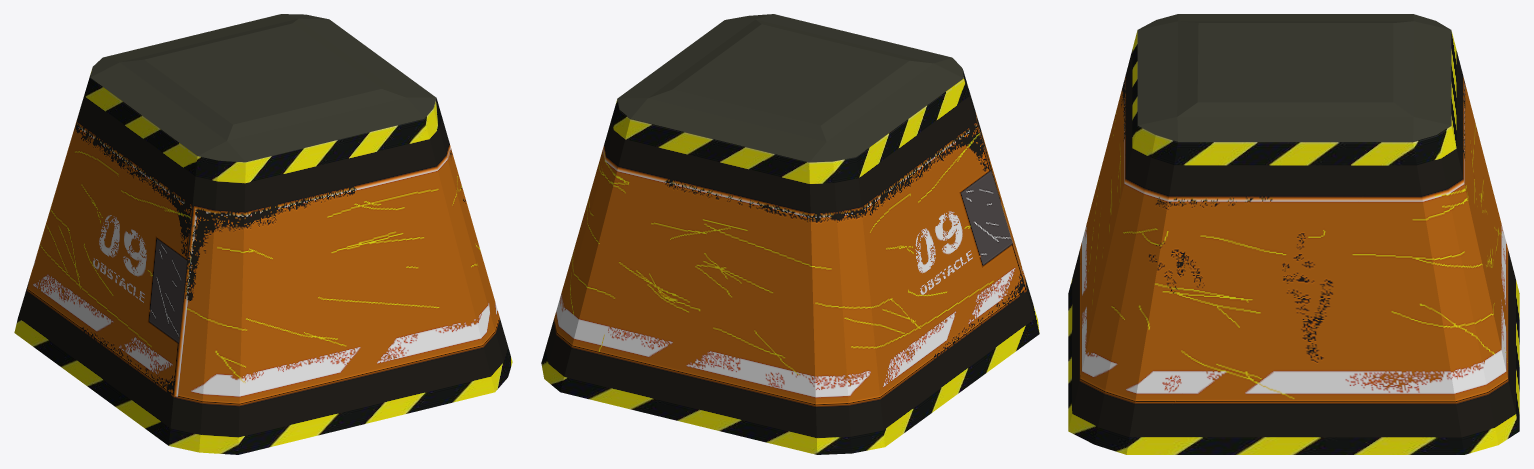
File: trapecio_bajo.fbx
3 renders of one model, left to right at view 1: azimuth 30°, elevation 25°; view 2: azimuth 150°, elevation 25°; view 3: azimuth 270°, elevation 25°, orthographic. The views are drawn at different scales.
Parts seen in each view (by area): view 1: Cube; view 2: Cube; view 3: Cube.
Boxes of the visible parts, x1,y1,x2,y2 form: Cube: (14, 14, 512, 454); Cube: (541, 14, 1039, 454); Cube: (1068, 14, 1519, 454).
Size of the model in its own units: 1.93 by 1.51 by 2.
1 material, 1 textured.
